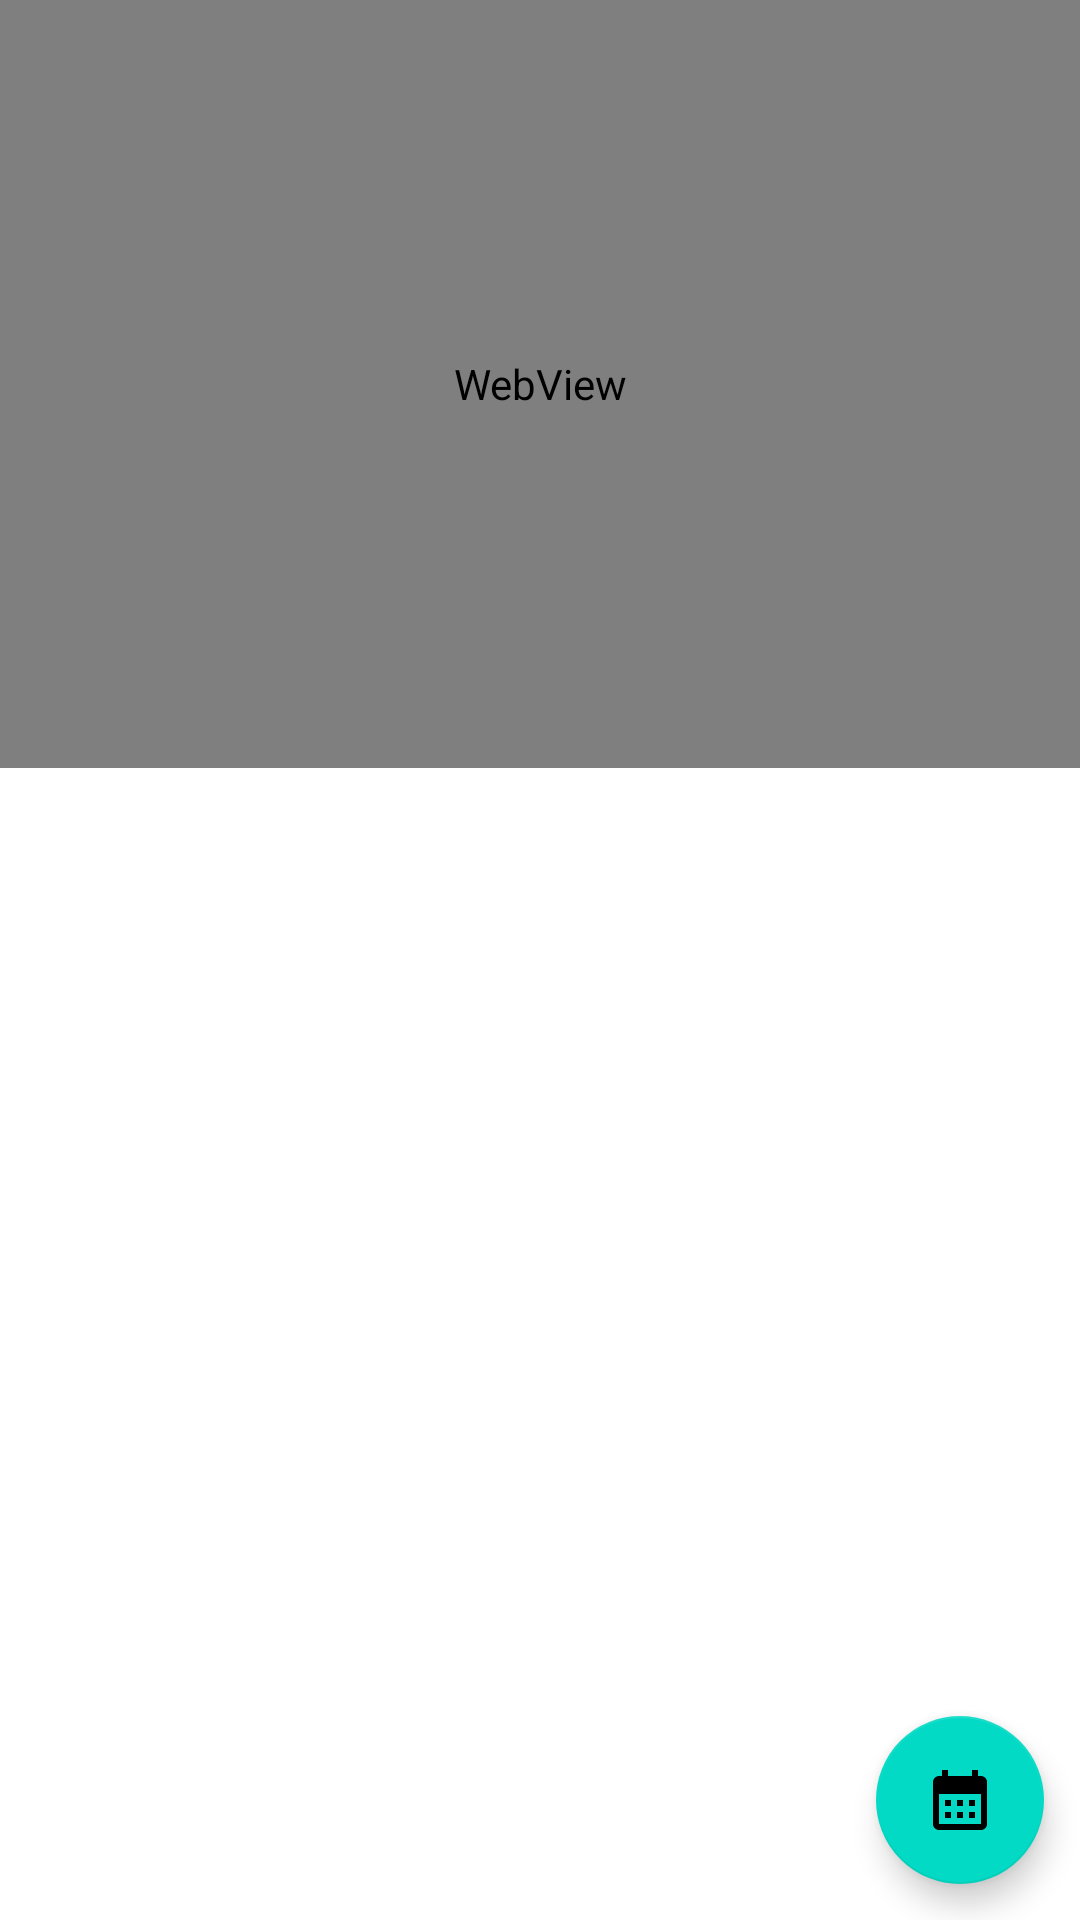

Icons on this 1080*1920 Android screen, each with its box as (x1, y1, x2, y2):
Calendar icon: (876, 1716, 1044, 1884)
